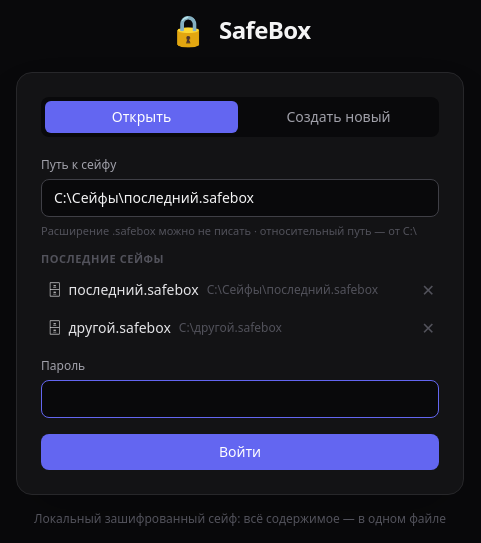
it: LoginScreen: последние сейфы › ✕ убирает сейф из списка и хранилища
Check: the field labelled "Путь к сейфу" is shown, box [41,178,439,216]
Click the button named "Убрать «C:\\другой.safebox» из списка" at (428, 328), box [418,312,439,344]
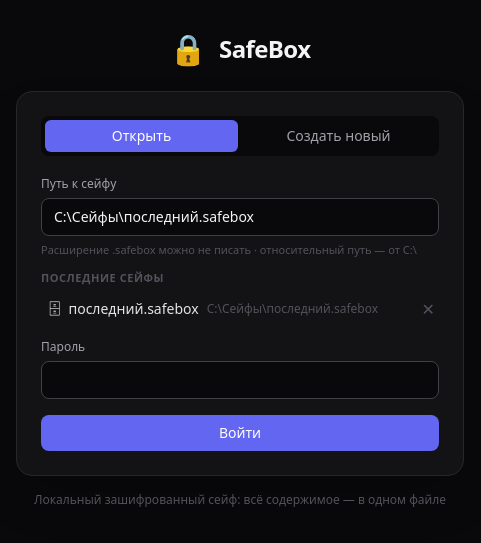
Check: the field labelled "Путь к сейфу" holds "C:\\Сейфы\\последний.safebox", box [41,198,439,236]
Check: the button "другой.safebox" is gone
